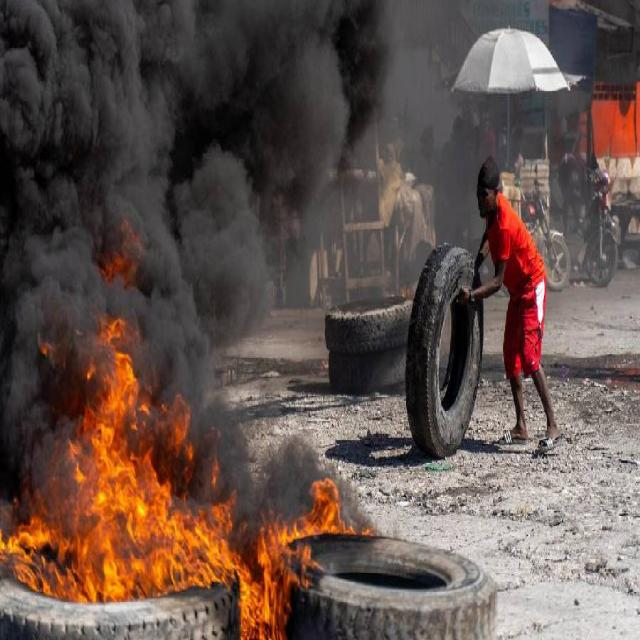fire: (67, 313, 193, 512), (1, 515, 239, 604), (240, 564, 288, 640), (255, 516, 310, 562), (309, 476, 341, 533)
